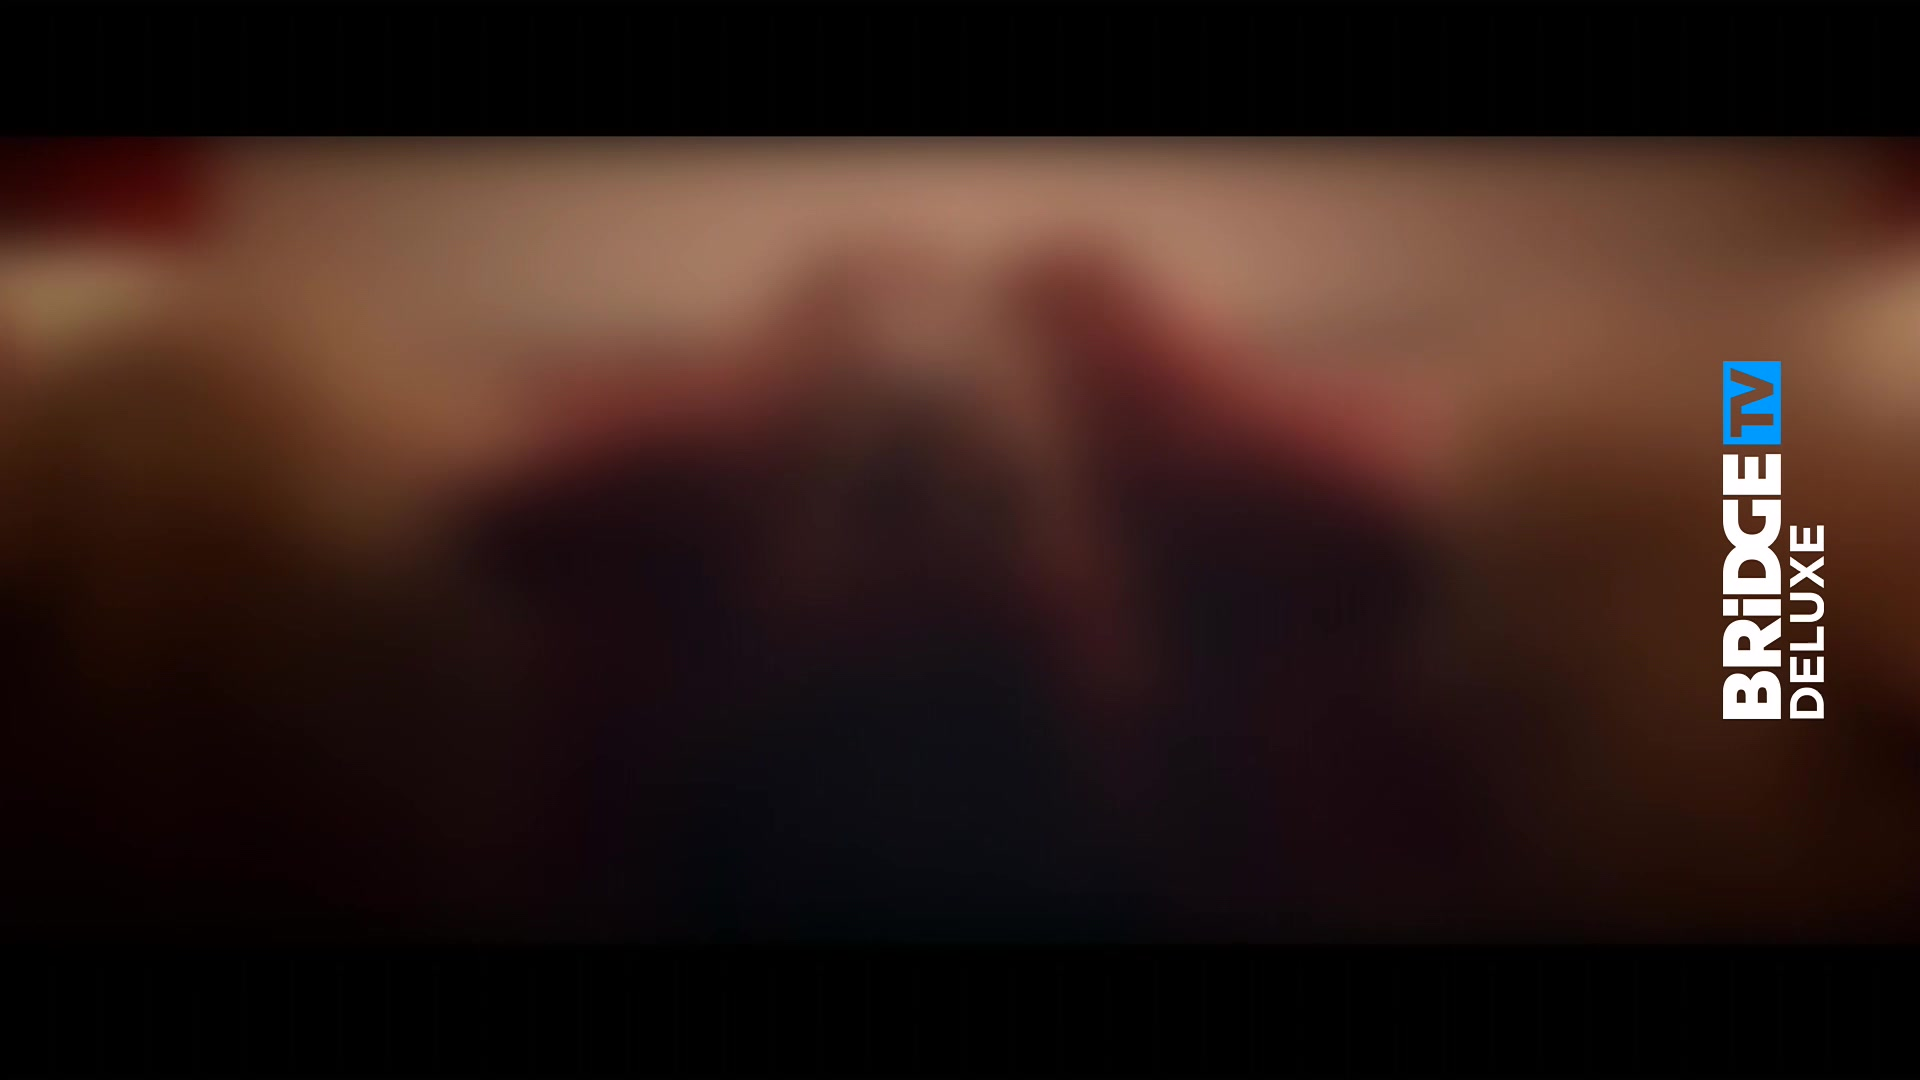Bridge_TV_Deluxe: (1716, 353, 1829, 731)
